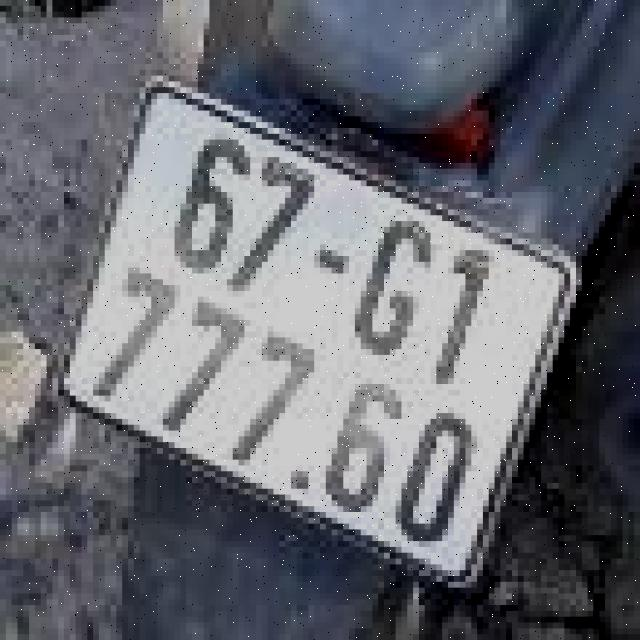0: (382, 398, 495, 556)
1: (415, 231, 513, 411)
6: (299, 365, 424, 527), (159, 124, 264, 285)
7: (193, 318, 337, 476), (68, 253, 193, 418), (135, 285, 262, 447), (217, 142, 337, 304)
G: (346, 205, 449, 364)
